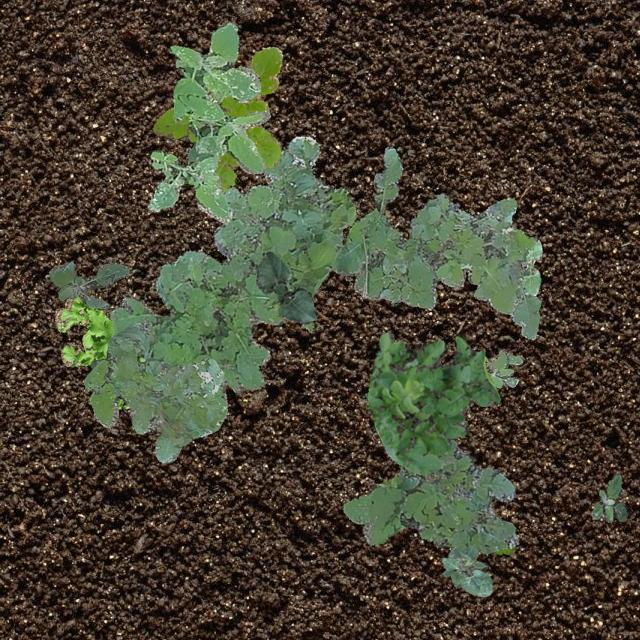crop: (256, 250, 316, 322), (440, 544, 490, 596), (520, 236, 542, 296)
weed: (110, 136, 354, 408), (328, 146, 540, 338), (146, 21, 270, 222), (342, 437, 518, 552), (82, 322, 226, 462), (366, 332, 500, 474), (152, 46, 282, 190), (54, 296, 144, 408), (48, 260, 128, 308), (590, 472, 626, 522), (483, 349, 522, 386), (494, 546, 514, 554), (89, 358, 99, 368)
